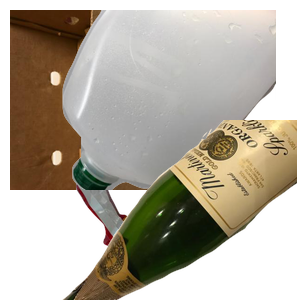cardboard: (10, 10, 211, 190)
glass: (60, 120, 300, 300)
plastic: (60, 10, 300, 190)
trash: (74, 167, 235, 300)
